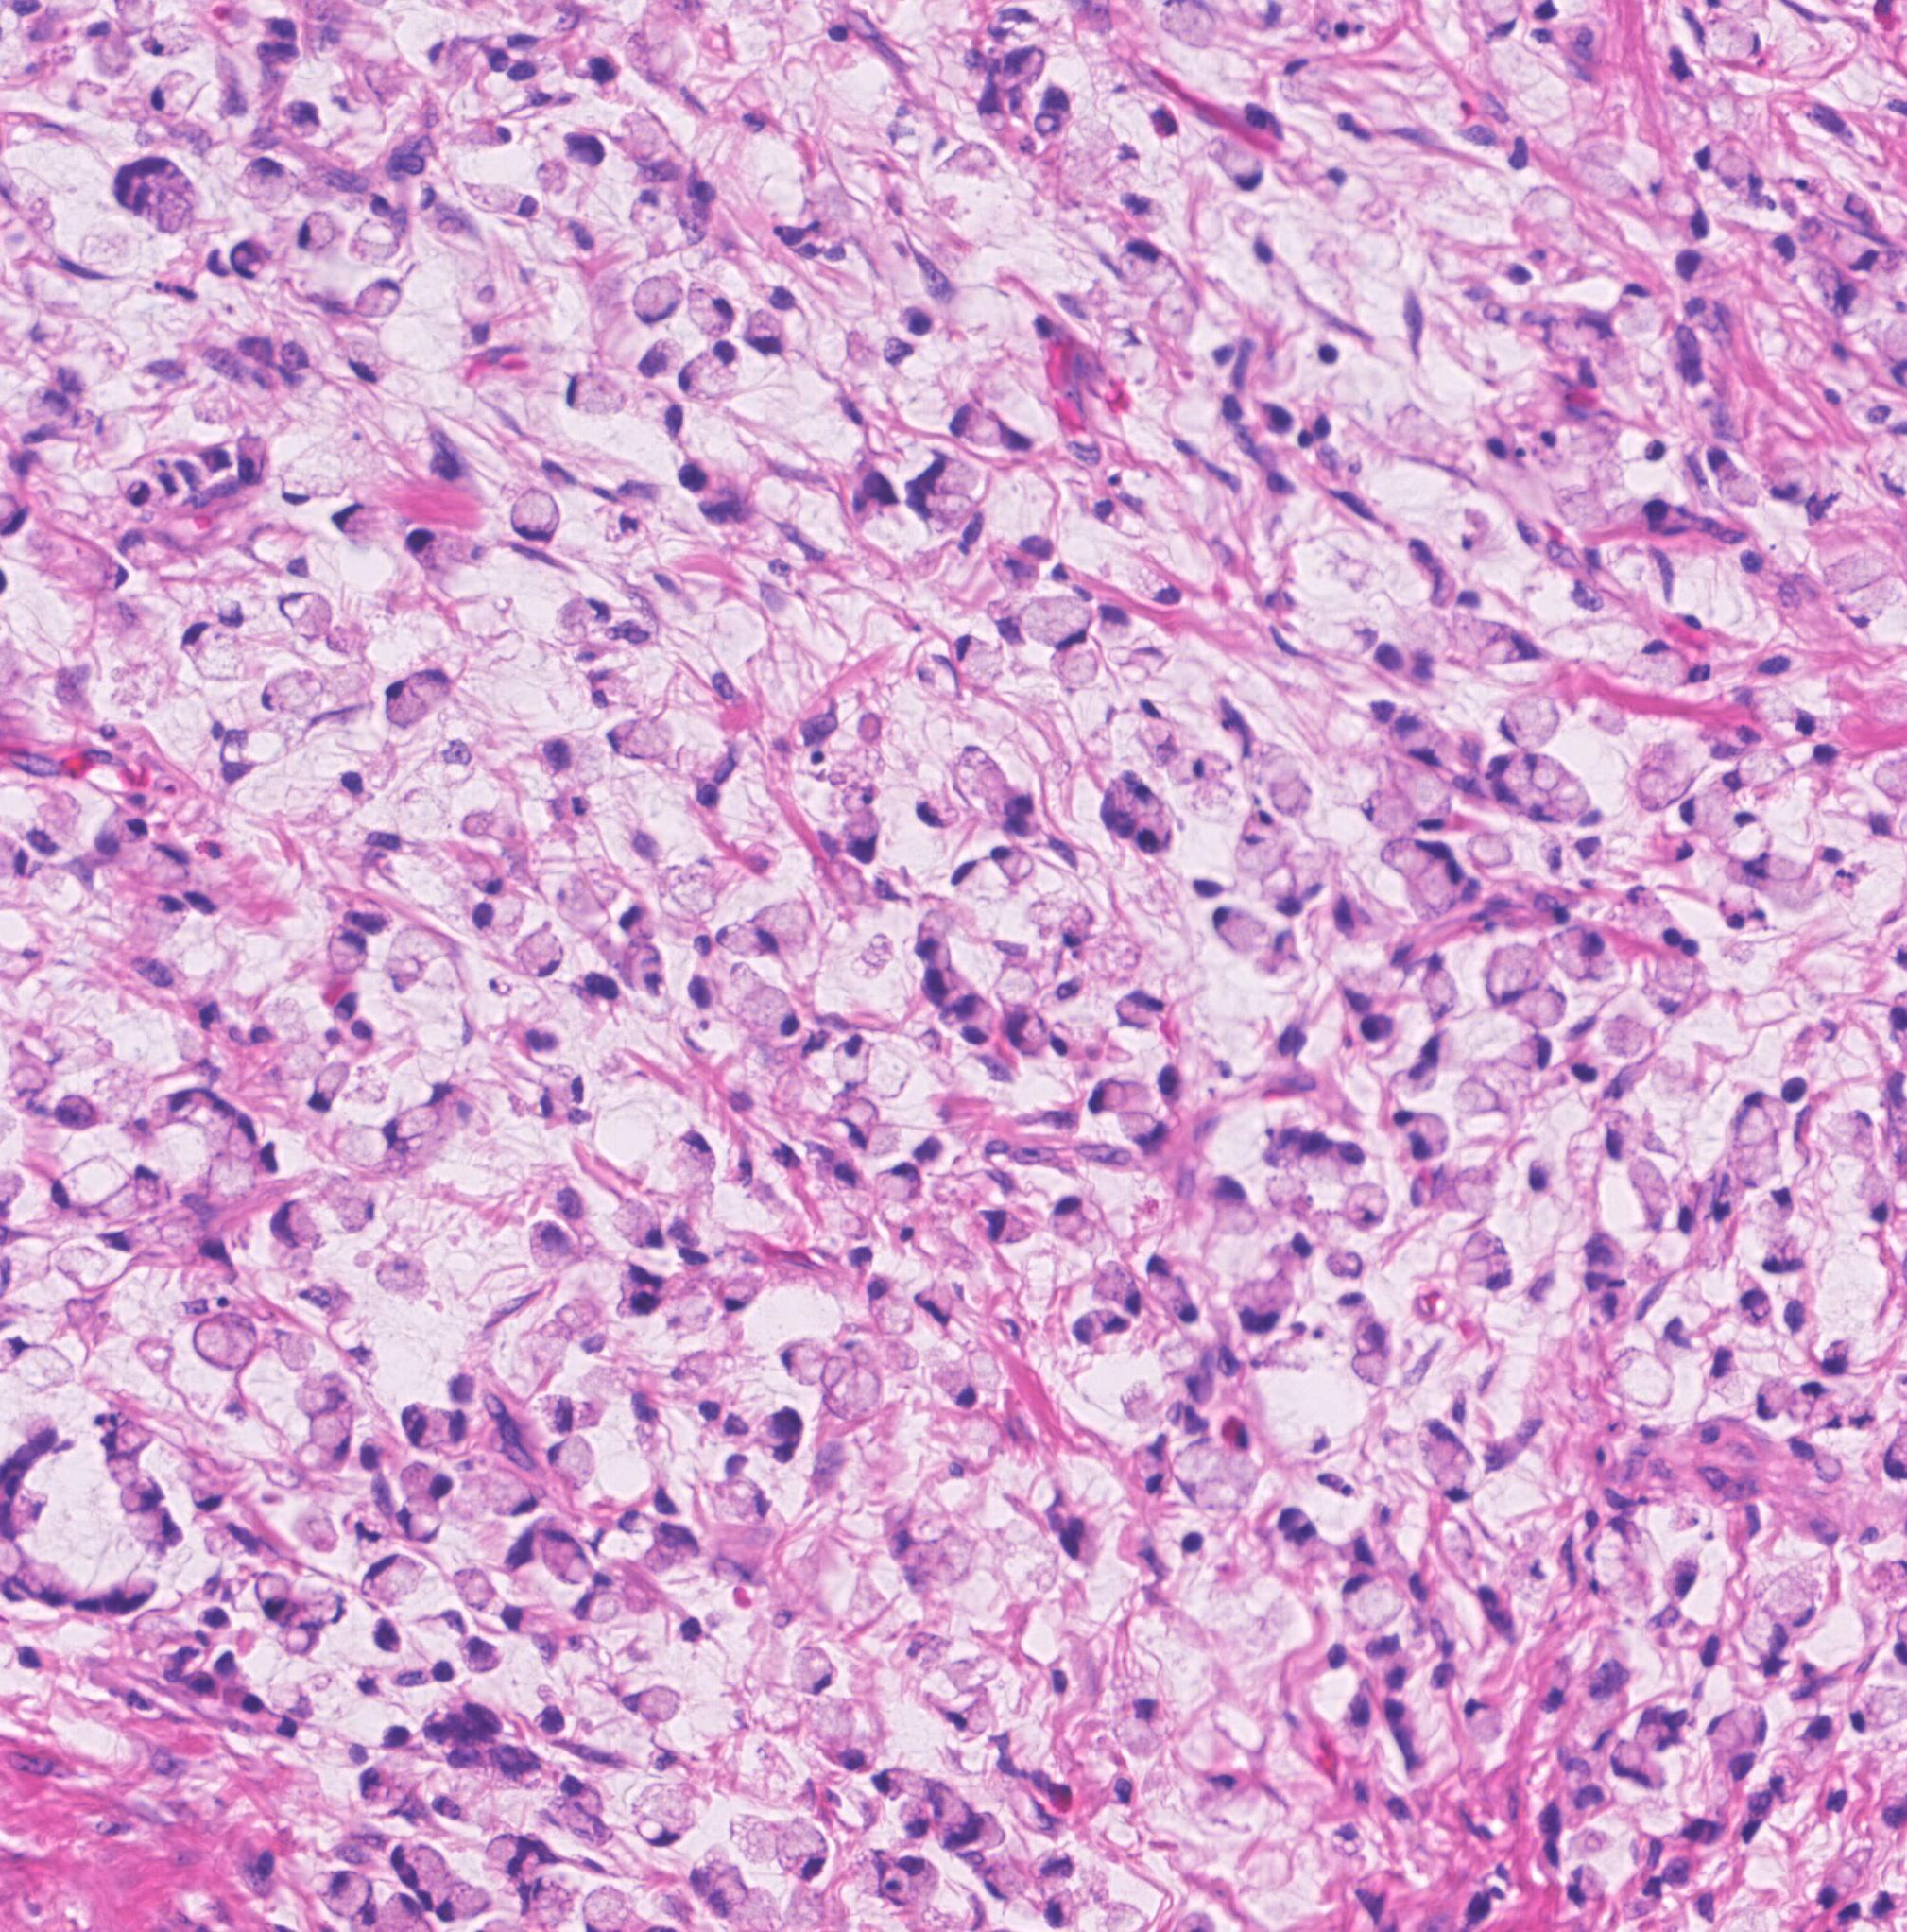ring_cell_cancer: (47, 1153, 129, 1212), (817, 1703, 884, 1775), (1610, 274, 1673, 346), (1481, 942, 1552, 1003), (1065, 143, 1140, 201), (1339, 1569, 1408, 1632), (952, 744, 1013, 814), (407, 524, 484, 578), (634, 1785, 699, 1848), (1236, 809, 1298, 875), (1497, 692, 1565, 751), (1018, 594, 1095, 646), (1755, 1570, 1820, 1632), (1112, 238, 1177, 299), (384, 667, 452, 725), (733, 982, 802, 1039), (1397, 763, 1455, 831), (1121, 1686, 1177, 1756), (183, 625, 255, 680), (281, 447, 348, 505), (1228, 1277, 1292, 1333), (1834, 575, 1900, 627), (320, 1177, 381, 1233), (772, 1818, 826, 1881), (1626, 641, 1692, 692), (1208, 135, 1266, 192), (753, 901, 814, 956), (414, 741, 484, 788), (269, 1200, 332, 1252), (611, 1195, 669, 1251), (412, 1609, 470, 1665), (339, 327, 396, 383), (1732, 1088, 1788, 1146), (606, 714, 674, 762), (363, 1551, 424, 1604), (1422, 949, 1465, 1022), (1422, 852, 1472, 915), (330, 505, 400, 550), (866, 1273, 915, 1338), (548, 596, 613, 645), (141, 889, 189, 956), (1048, 634, 1104, 690), (1823, 1107, 1879, 1163), (634, 383, 686, 442), (1727, 748, 1795, 793), (234, 159, 297, 208), (473, 1469, 538, 1516), (679, 351, 739, 402), (906, 489, 978, 531), (1210, 905, 1271, 954), (950, 631, 1002, 687), (307, 1401, 358, 1459), (1359, 784, 1416, 835), (512, 487, 561, 547), (430, 1081, 489, 1130), (566, 369, 627, 416), (1649, 952, 1696, 1013), (1717, 809, 1771, 861), (1093, 1263, 1146, 1317), (1680, 783, 1736, 833), (1210, 1177, 1257, 1237), (1699, 136, 1753, 187), (667, 1132, 716, 1188), (1706, 17, 1764, 65), (143, 72, 203, 117), (264, 671, 323, 716), (384, 1101, 445, 1144), (629, 185, 679, 238), (475, 887, 527, 938), (636, 273, 685, 327), (1544, 926, 1591, 982), (334, 1123, 391, 1169), (622, 1686, 686, 1726), (1385, 835, 1446, 877), (915, 461, 985, 498), (548, 1436, 596, 1490), (952, 398, 1006, 445), (692, 281, 737, 337), (1601, 1109, 1650, 1160), (1341, 1183, 1394, 1230), (138, 21, 208, 56), (396, 1492, 445, 1541), (777, 1342, 830, 1387), (936, 1357, 981, 1410), (833, 1034, 877, 1088), (1622, 887, 1666, 942), (258, 535, 314, 576), (1586, 929, 1626, 987), (515, 931, 564, 978), (325, 926, 372, 975), (403, 1843, 451, 1892), (1500, 1031, 1554, 1073), (1511, 989, 1568, 1027), (1168, 746, 1226, 784), (293, 1373, 344, 1417), (98, 798, 148, 842), (398, 1462, 454, 1501), (189, 1453, 227, 1509), (325, 1867, 370, 1915), (307, 1060, 351, 1109), (206, 1513, 255, 1556), (718, 917, 768, 959), (1807, 1389, 1858, 1431), (353, 278, 405, 318), (1752, 1373, 1795, 1420), (1460, 1694, 1502, 1743), (1008, 1006, 1050, 1055), (569, 1590, 627, 1625), (789, 1649, 833, 1694), (1406, 1118, 1453, 1160), (1455, 1259, 1514, 1293), (877, 1163, 926, 1204), (845, 809, 880, 865), (114, 1476, 166, 1513), (747, 307, 788, 355), (293, 211, 337, 252), (1119, 1111, 1168, 1146), (1051, 1197, 1090, 1240), (257, 1574, 293, 1619), (224, 1118, 260, 1162), (1790, 1378, 1823, 1417)
